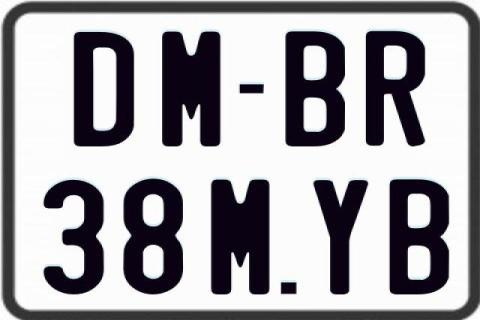0: (123, 178, 187, 294), (41, 180, 102, 294)
B: (286, 31, 350, 150), (390, 178, 449, 298)
D: (72, 32, 137, 146)
M: (210, 177, 273, 293), (160, 29, 219, 150)
R: (363, 29, 426, 145)
Y: (312, 178, 366, 296)
